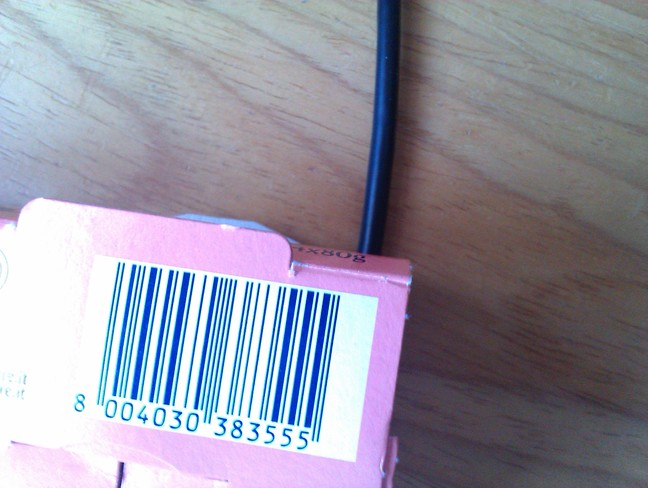detection: (62, 255, 378, 462)
